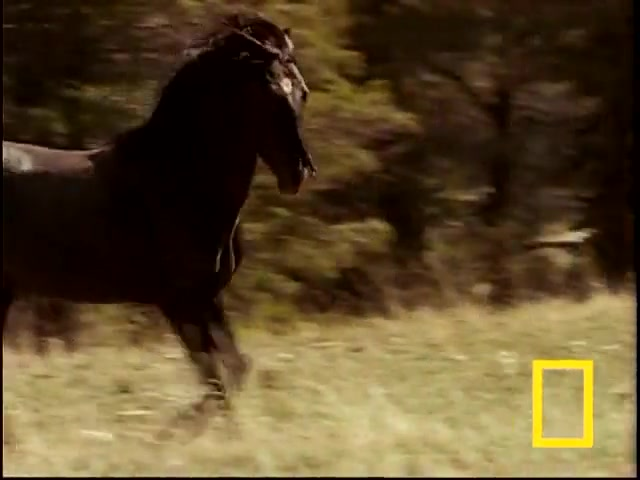horse: (1, 13, 320, 421)
